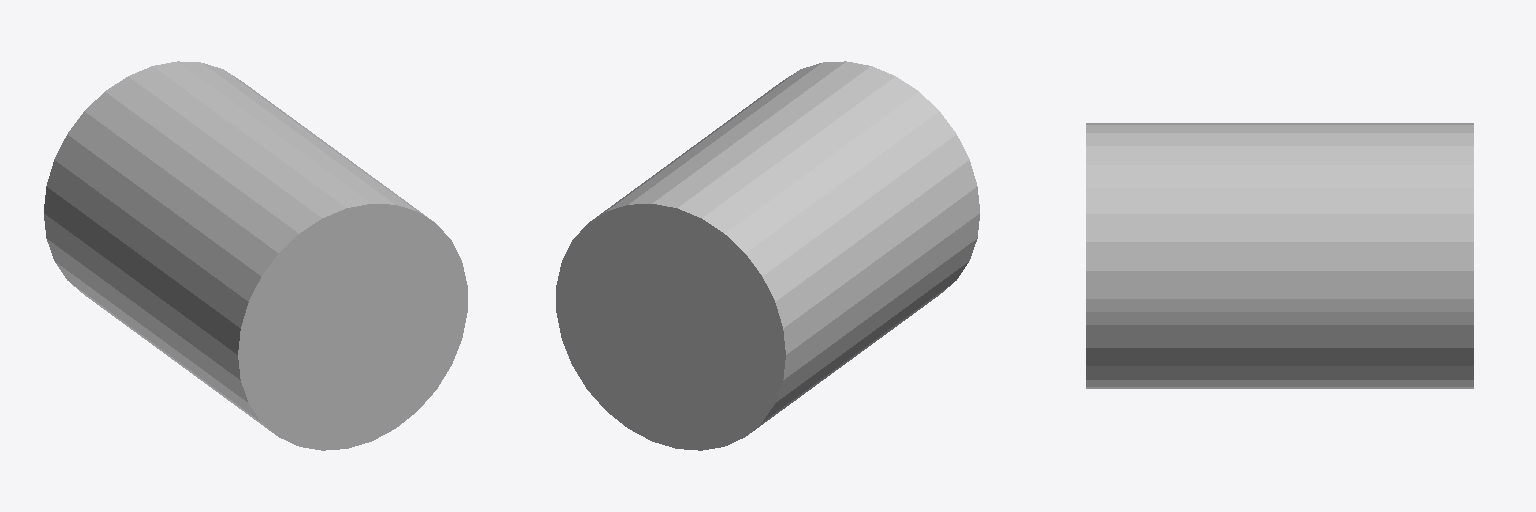
The model's file is cylinder_collision_fine.obj.
The picture shows the model from 3 angles: view 1: azimuth 30°, elevation 25°; view 2: azimuth 150°, elevation 25°; view 3: azimuth 270°, elevation 25°; orthographic projection.
Size of the model in its own units: 0.065 by 0.0649 by 0.095.